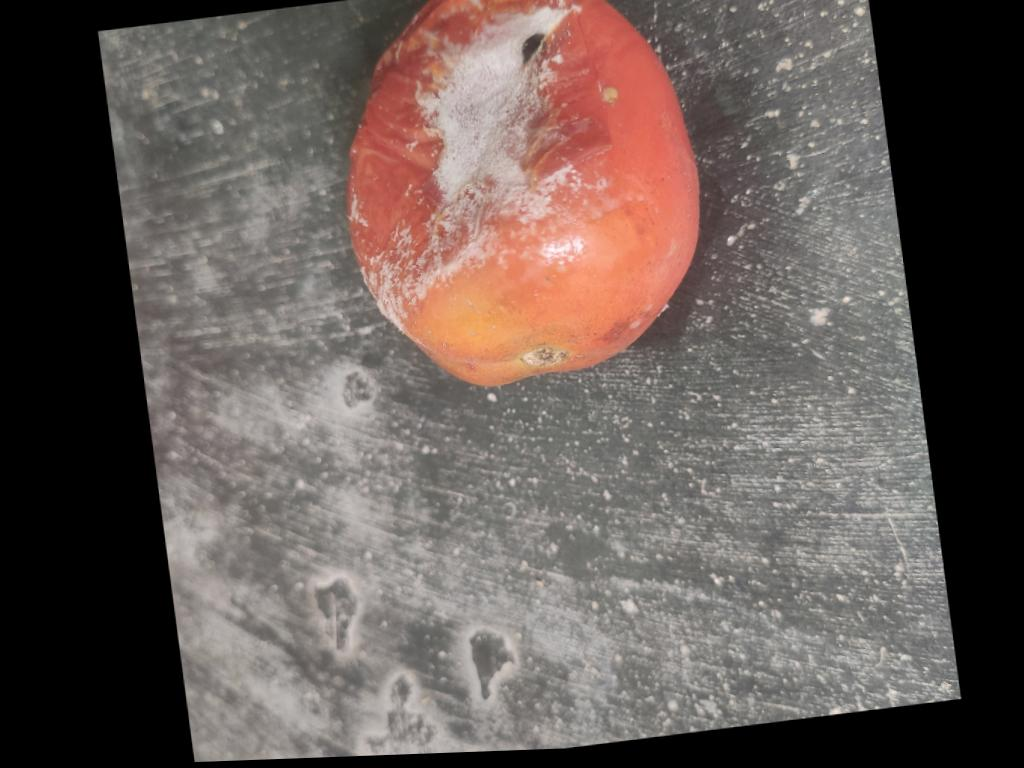rot_mold_decay: (360, 1, 607, 346), (521, 31, 544, 63), (347, 192, 367, 225)
surface_damage: (347, 0, 610, 285)
tomato: (347, 0, 698, 385)
